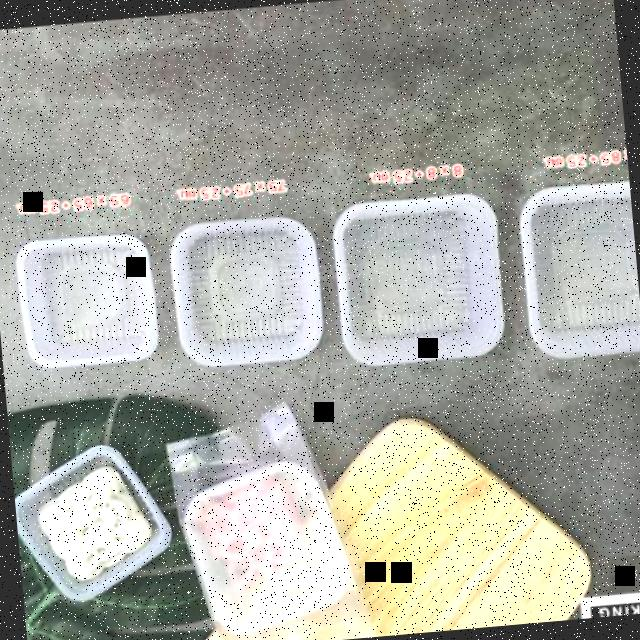plastic_box: (322, 178, 508, 365), (169, 208, 325, 368), (509, 181, 640, 363), (11, 224, 156, 361)
